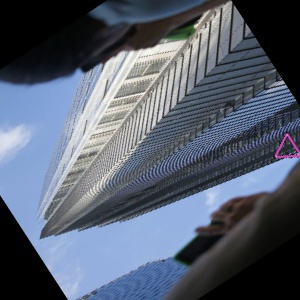triangle: (271, 132, 300, 160)
